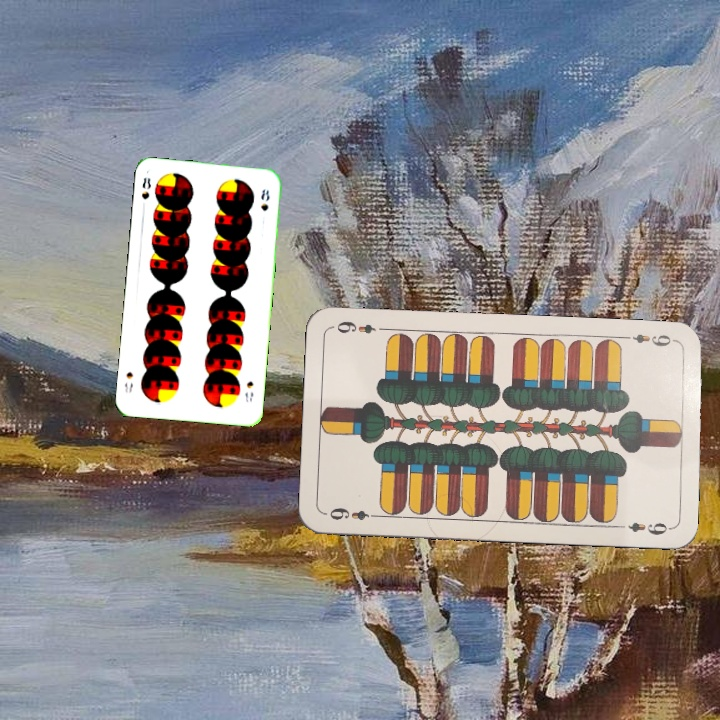E9: (620, 329, 680, 349), (323, 503, 382, 523)
S8: (137, 173, 153, 212), (241, 377, 256, 404)
